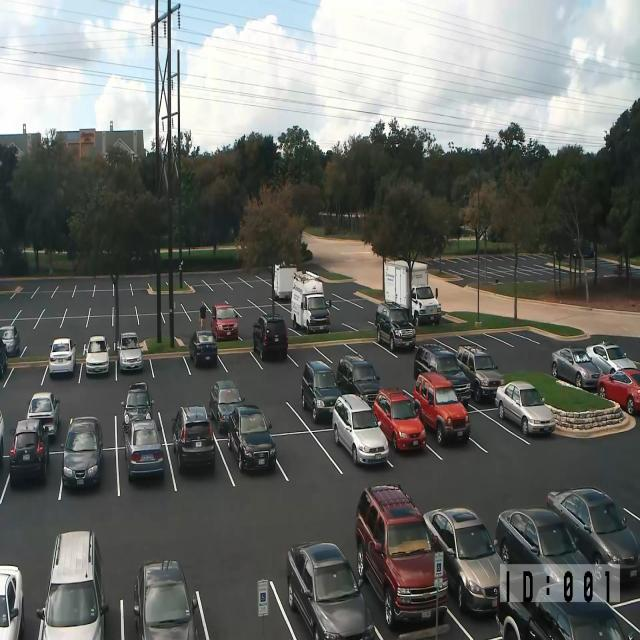car: (355, 483, 449, 629), (494, 507, 601, 604), (496, 572, 640, 640), (546, 486, 640, 583), (423, 506, 504, 616), (286, 540, 375, 640), (36, 530, 109, 640), (133, 558, 209, 640), (413, 371, 471, 446), (332, 393, 389, 466), (528, 600, 625, 639), (413, 343, 471, 407), (373, 387, 426, 452), (495, 381, 556, 436), (227, 404, 276, 472), (60, 415, 103, 489), (172, 405, 216, 473), (456, 344, 504, 403), (123, 415, 164, 481), (300, 360, 342, 423), (9, 418, 49, 481), (336, 354, 381, 406), (551, 346, 603, 390), (375, 301, 416, 351), (597, 368, 640, 415), (209, 380, 245, 433), (0, 564, 24, 639), (413, 341, 458, 380), (121, 381, 154, 433), (252, 314, 288, 361), (586, 341, 637, 374), (26, 391, 60, 439), (411, 284, 442, 326), (189, 329, 218, 368), (83, 335, 110, 376), (116, 331, 143, 372), (49, 337, 76, 376), (211, 302, 238, 341), (0, 324, 20, 356), (572, 242, 594, 258), (0, 337, 7, 378), (0, 408, 4, 466)
